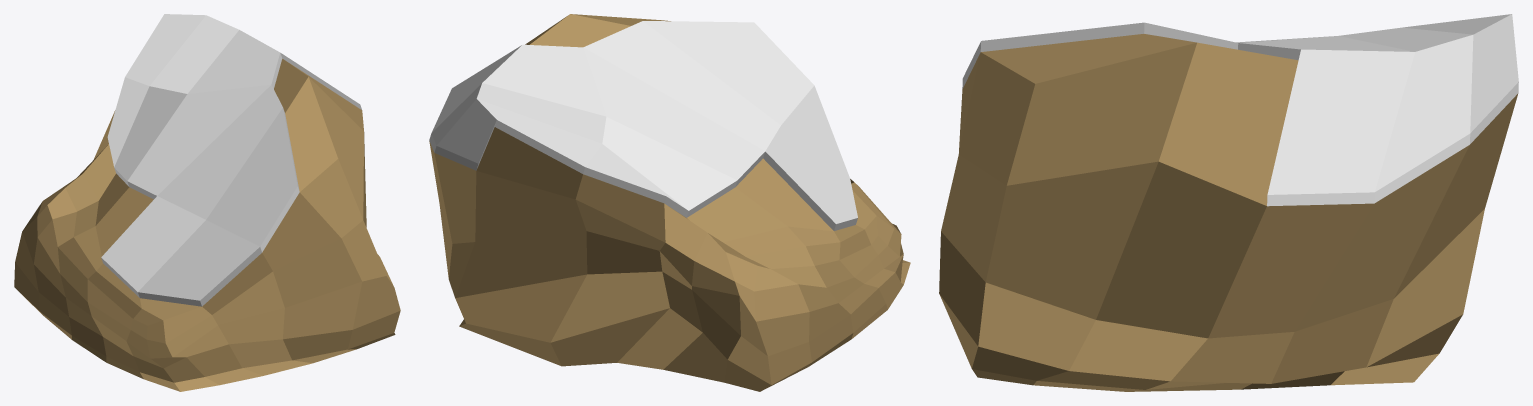
Rendered from Stone2b.fbx.
3 views of the same model, side by side, from view 1: azimuth 30°, elevation 25°; view 2: azimuth 150°, elevation 25°; view 3: azimuth 270°, elevation 25° (orthographic). The views are drawn at different scales.
Parts seen in each view (by area): view 1: Stone2.001; view 2: Stone2.001; view 3: Stone2.001.
Boxes of the visible parts, left/top/right/bottom form: Stone2.001: left=14, top=14, right=400, bottom=391; Stone2.001: left=429, top=14, right=910, bottom=391; Stone2.001: left=939, top=14, right=1518, bottom=391.
Bounding box in the file's own units: 459 × 309 × 479.
